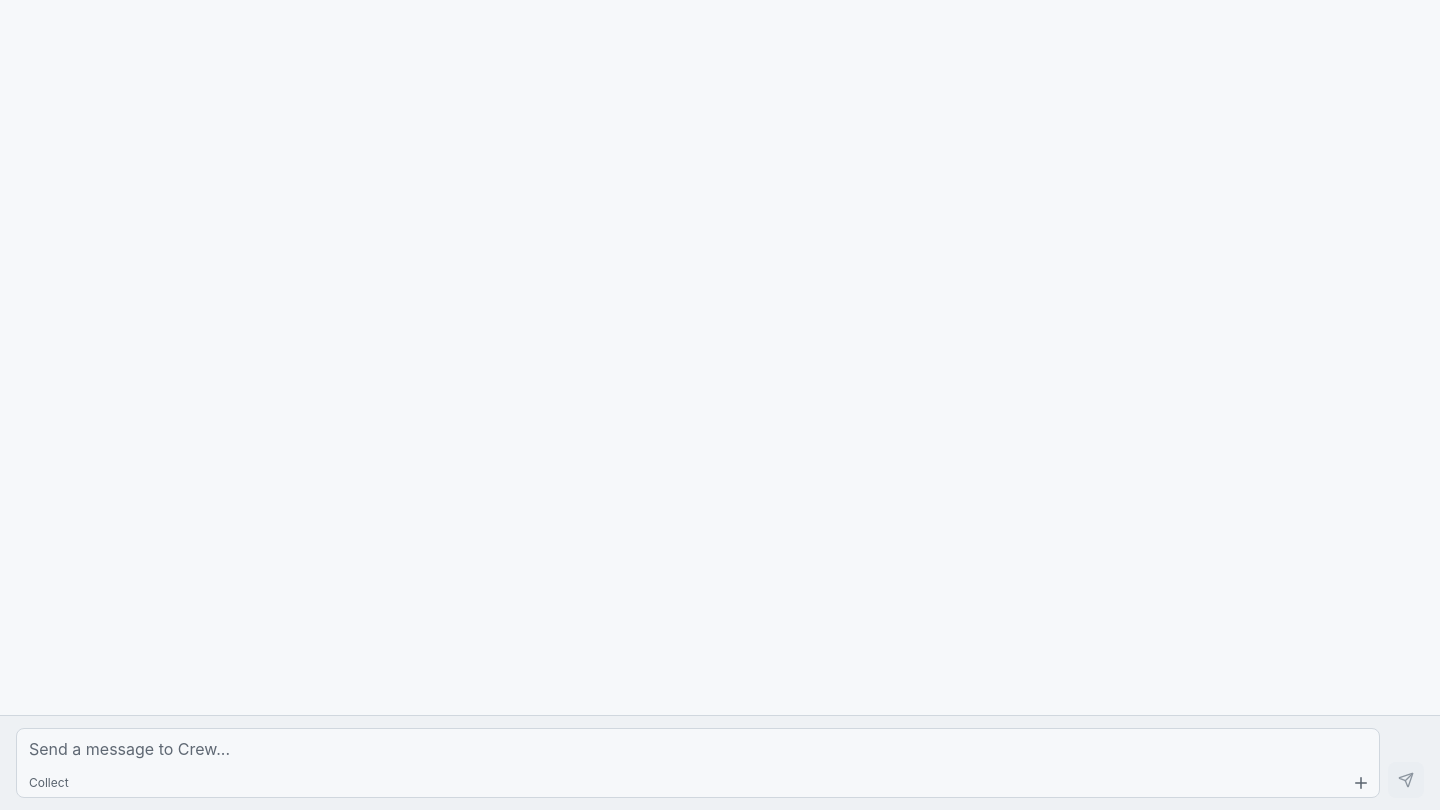
Test: T15-c 走代理端点：路径不带 key，凭证不进前端 › 写入成功后在对话流留一行回执（可见性靠回执，不靠面板）
// V8: ⌘ 记忆收进输入框内「＋」菜单 —— 先开菜单。
Click the button named "更多": (1361, 783) top-left (1347, 769), bottom-right (1375, 797)
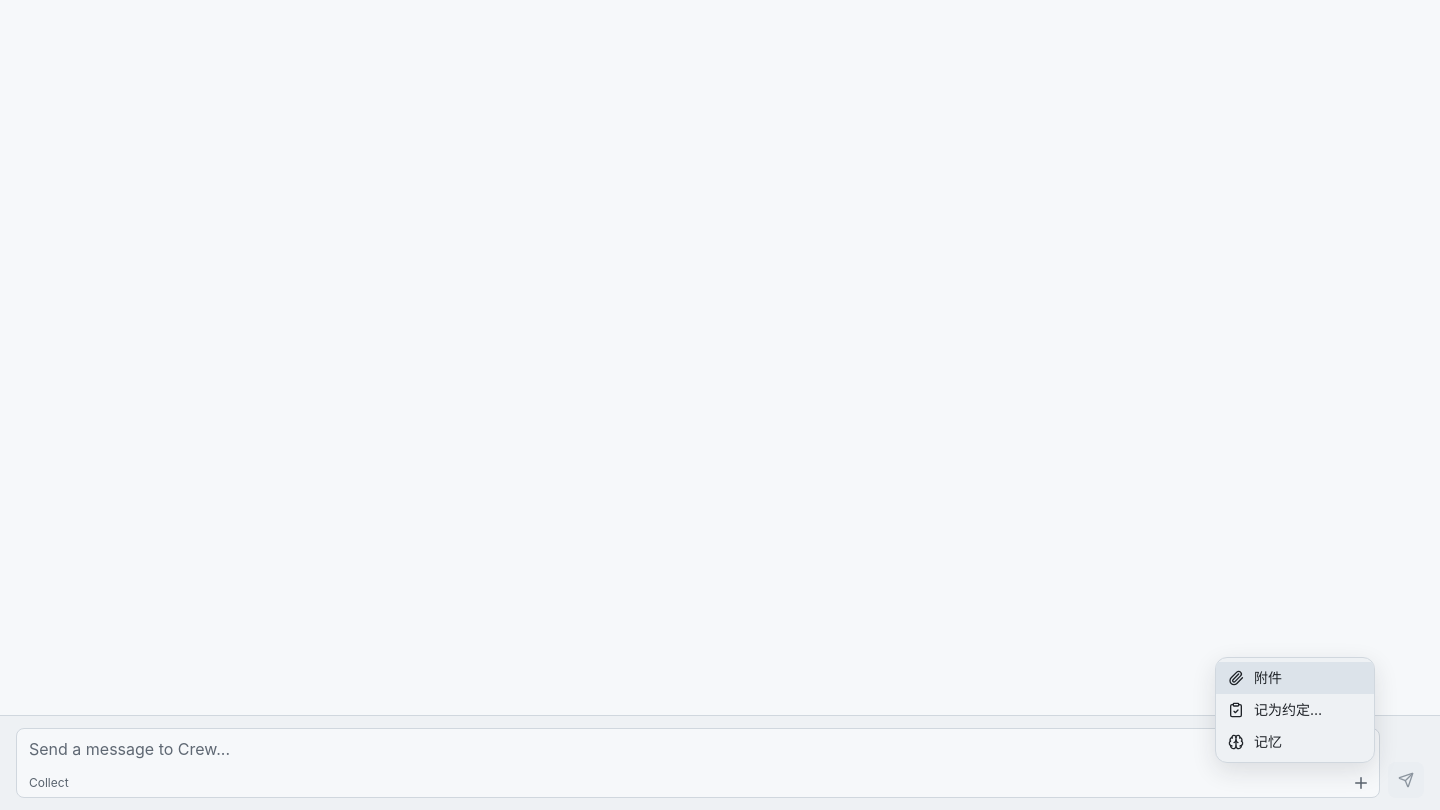
Click the menu item with aria-label "memory": (1295, 742) top-left (1216, 726), bottom-right (1374, 758)
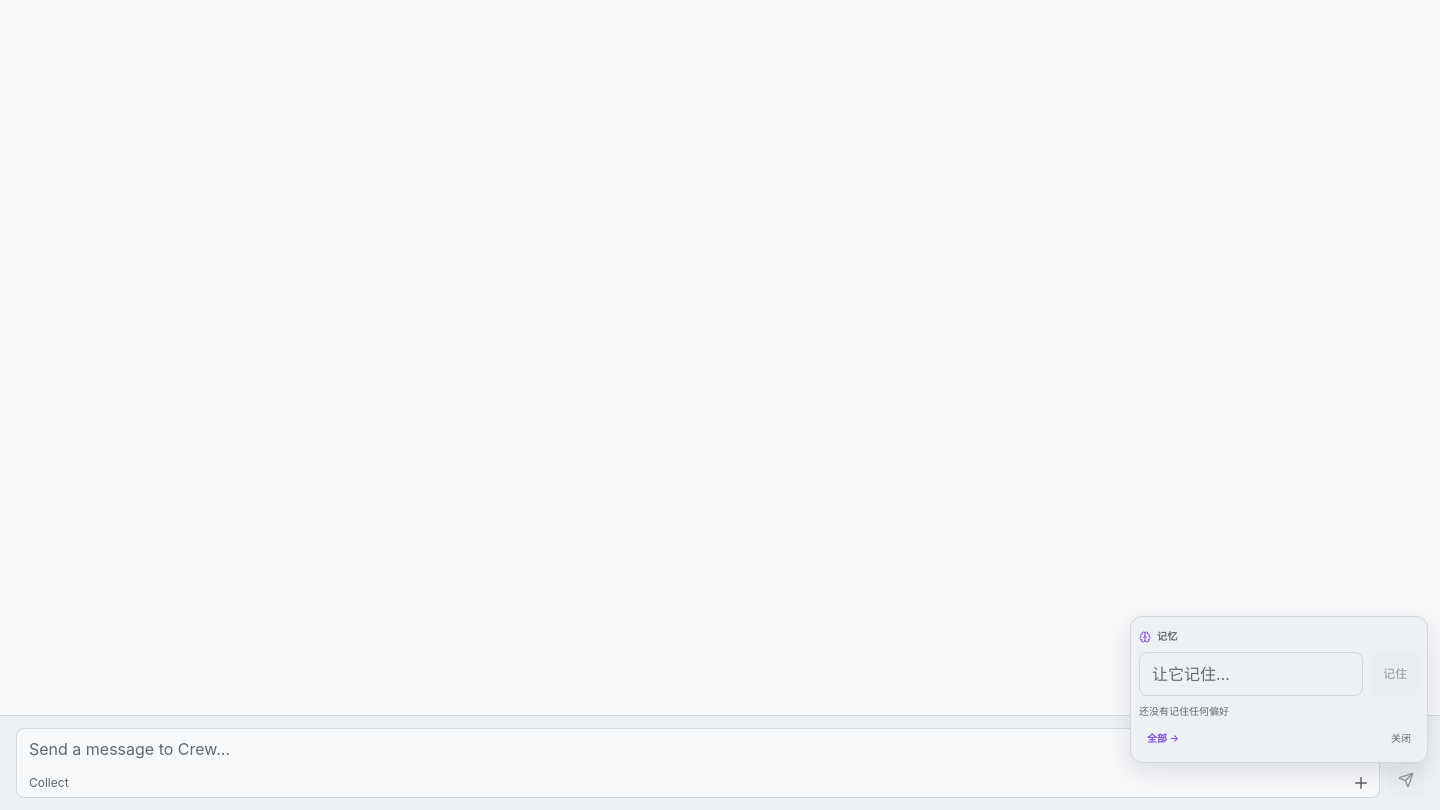
In the field named "memory draft": (1251, 674) top-left (1139, 652), bottom-right (1363, 696), type "提交前必须先跑 npm test"
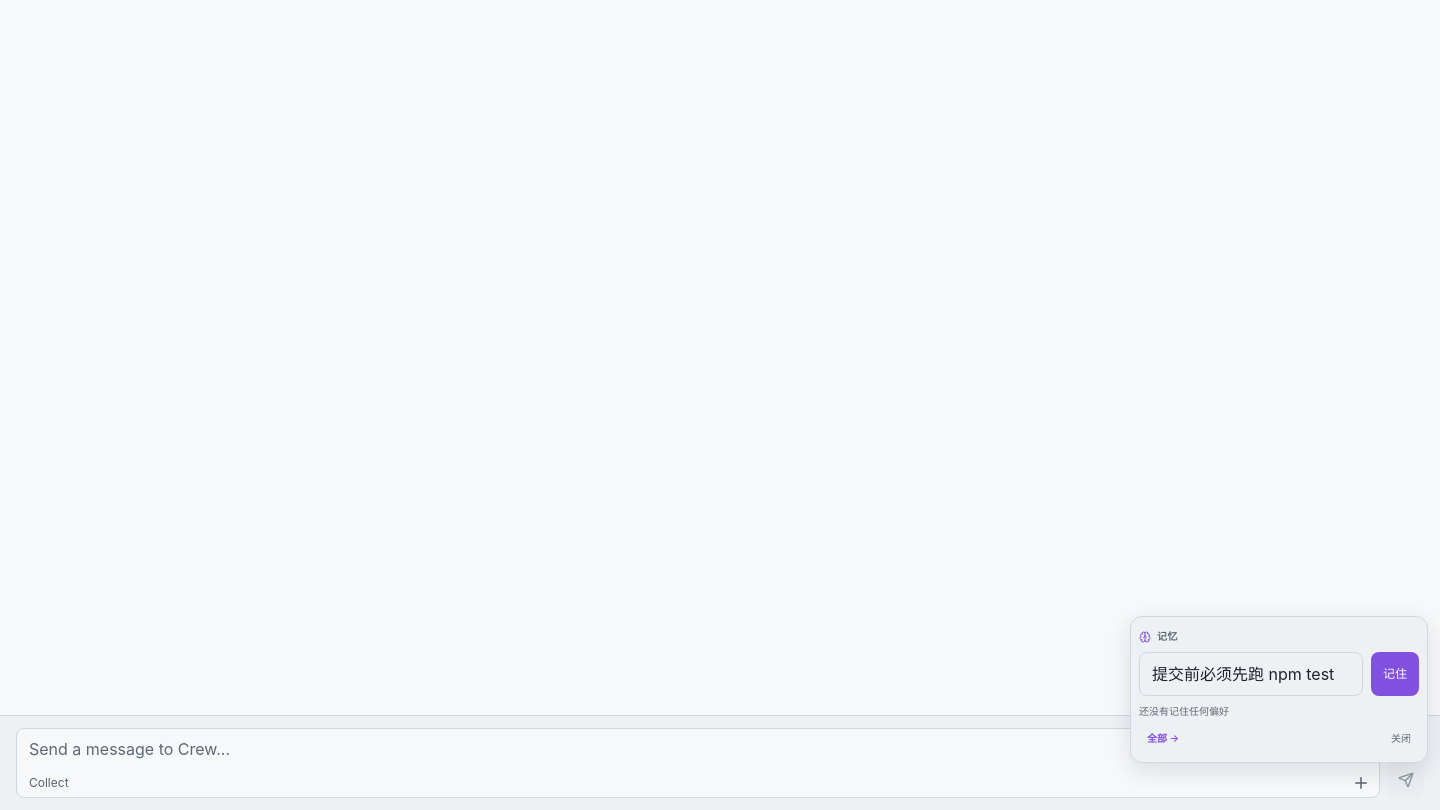
Click the button "记住": (1395, 674) top-left (1371, 652), bottom-right (1419, 696)
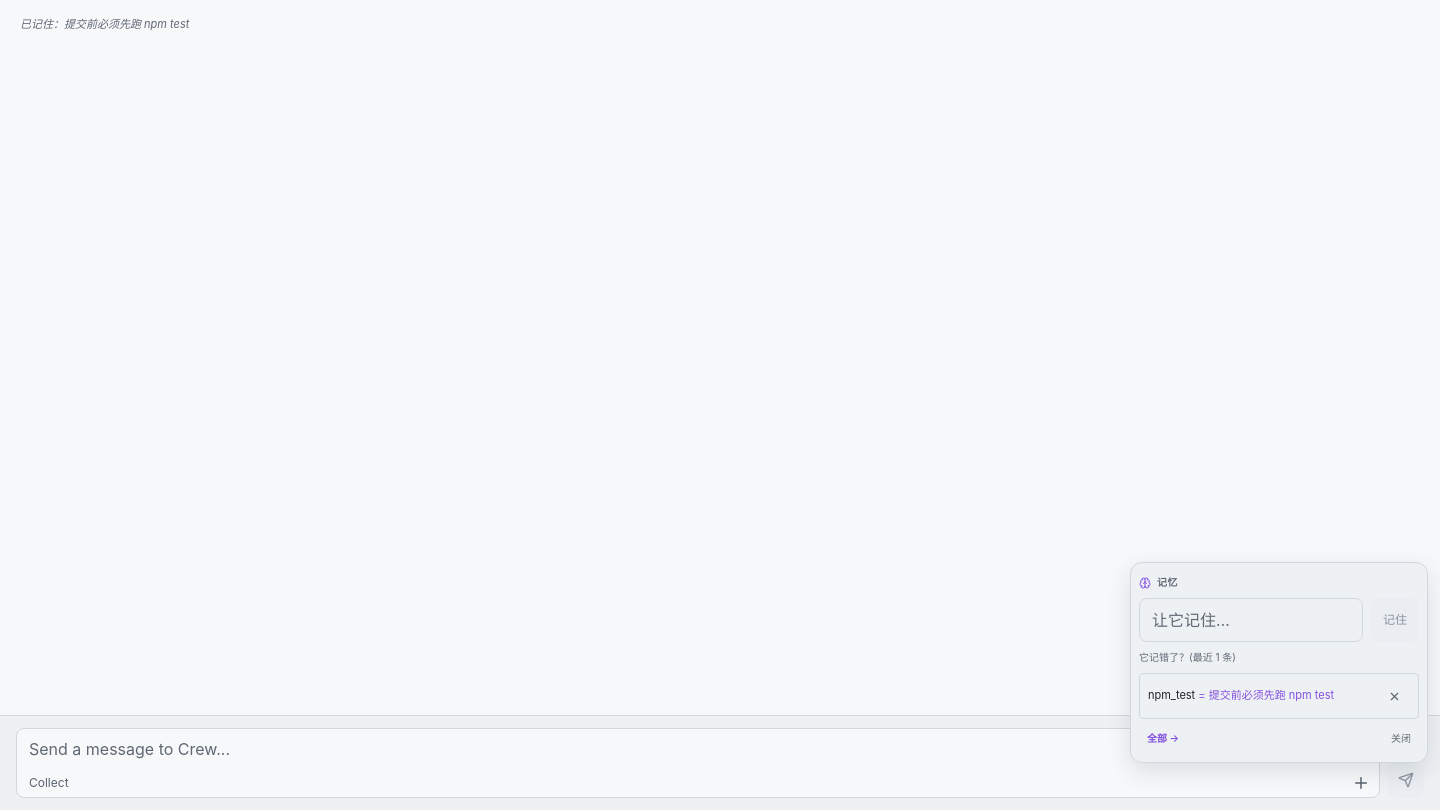
Check: the text "已记住：提交前必须先跑 npm test" is shown, box top-left (20, 17), bottom-right (189, 31)
